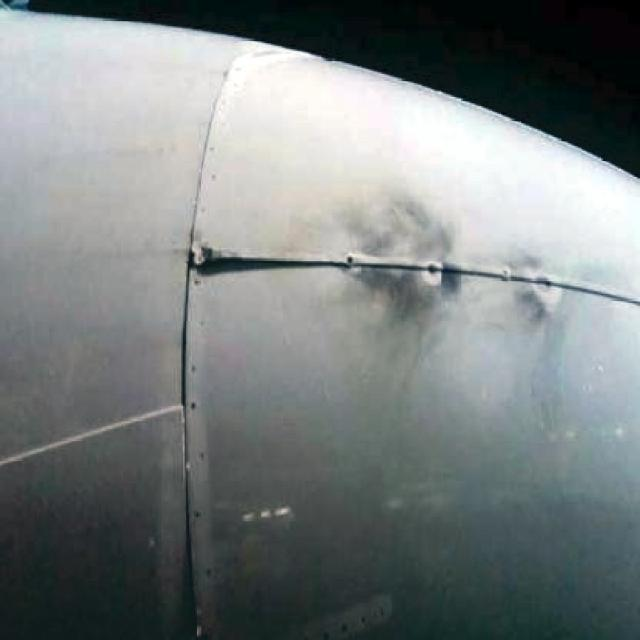crack: (196, 257, 349, 274)
